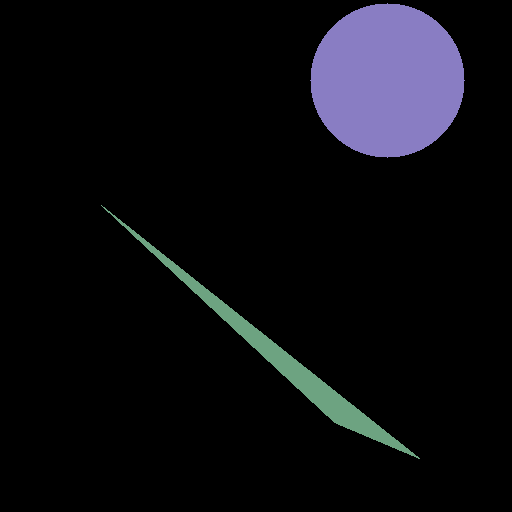circle: (310, 3, 464, 157)
triangle: (101, 205, 419, 458)
